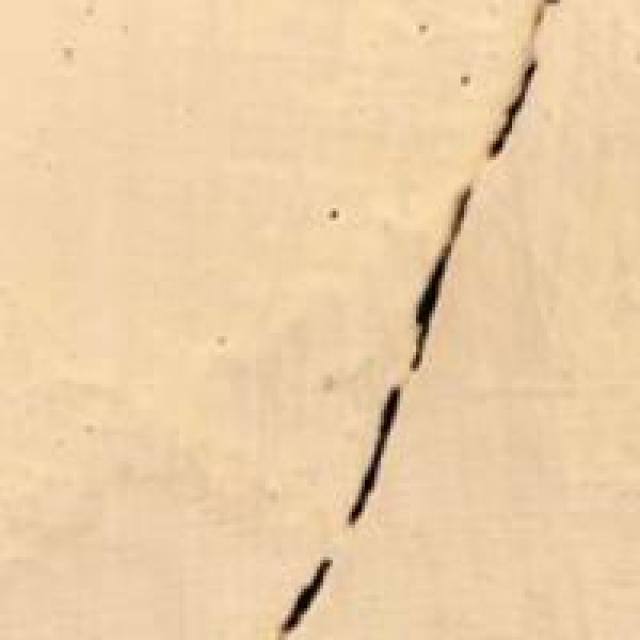crack: (195, 0, 608, 637)
